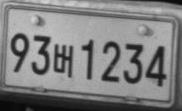1: (78, 38, 99, 80)
2: (100, 39, 121, 82)
3: (122, 43, 144, 84), (30, 34, 51, 75)
4: (144, 44, 168, 87)
9: (9, 32, 30, 73)
버: (53, 42, 74, 78)
